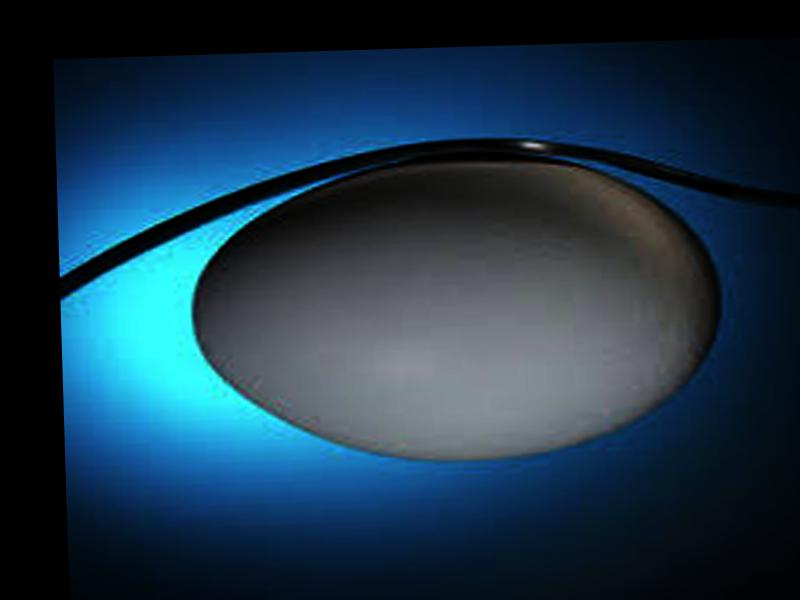Eggs: (188, 150, 723, 465)
